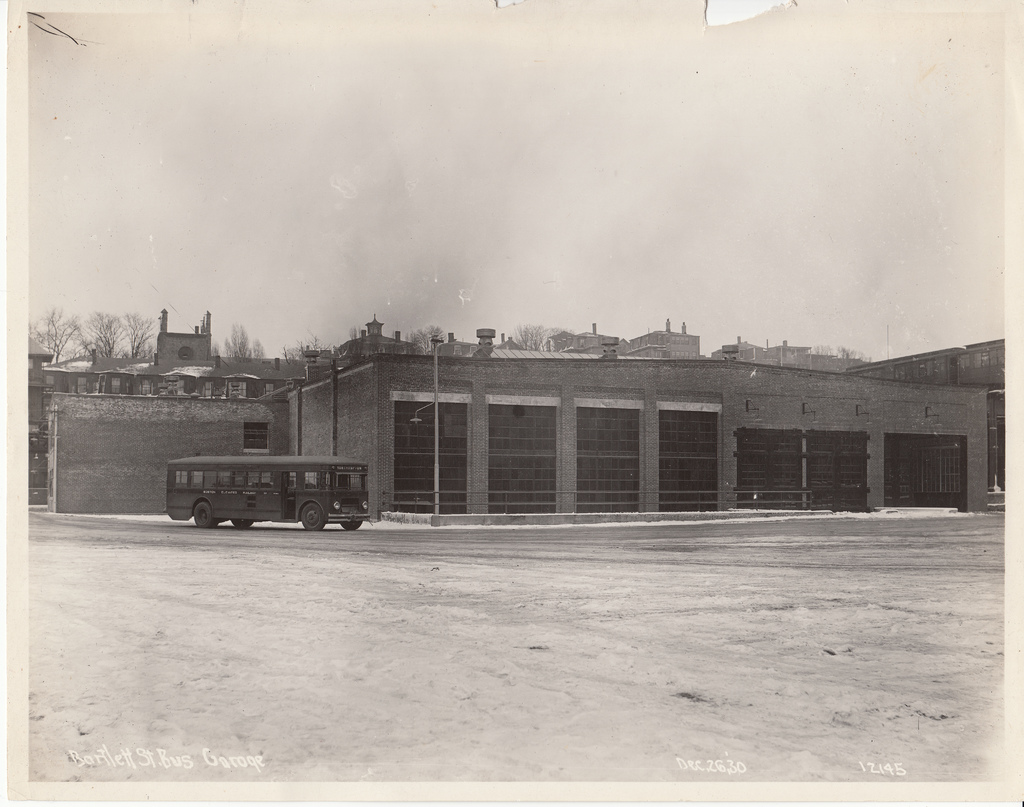Bus: (167, 456, 373, 535)
